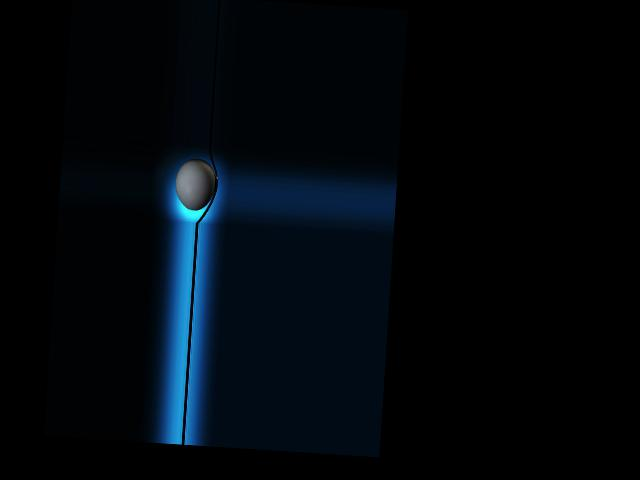egg: (174, 157, 217, 211)
